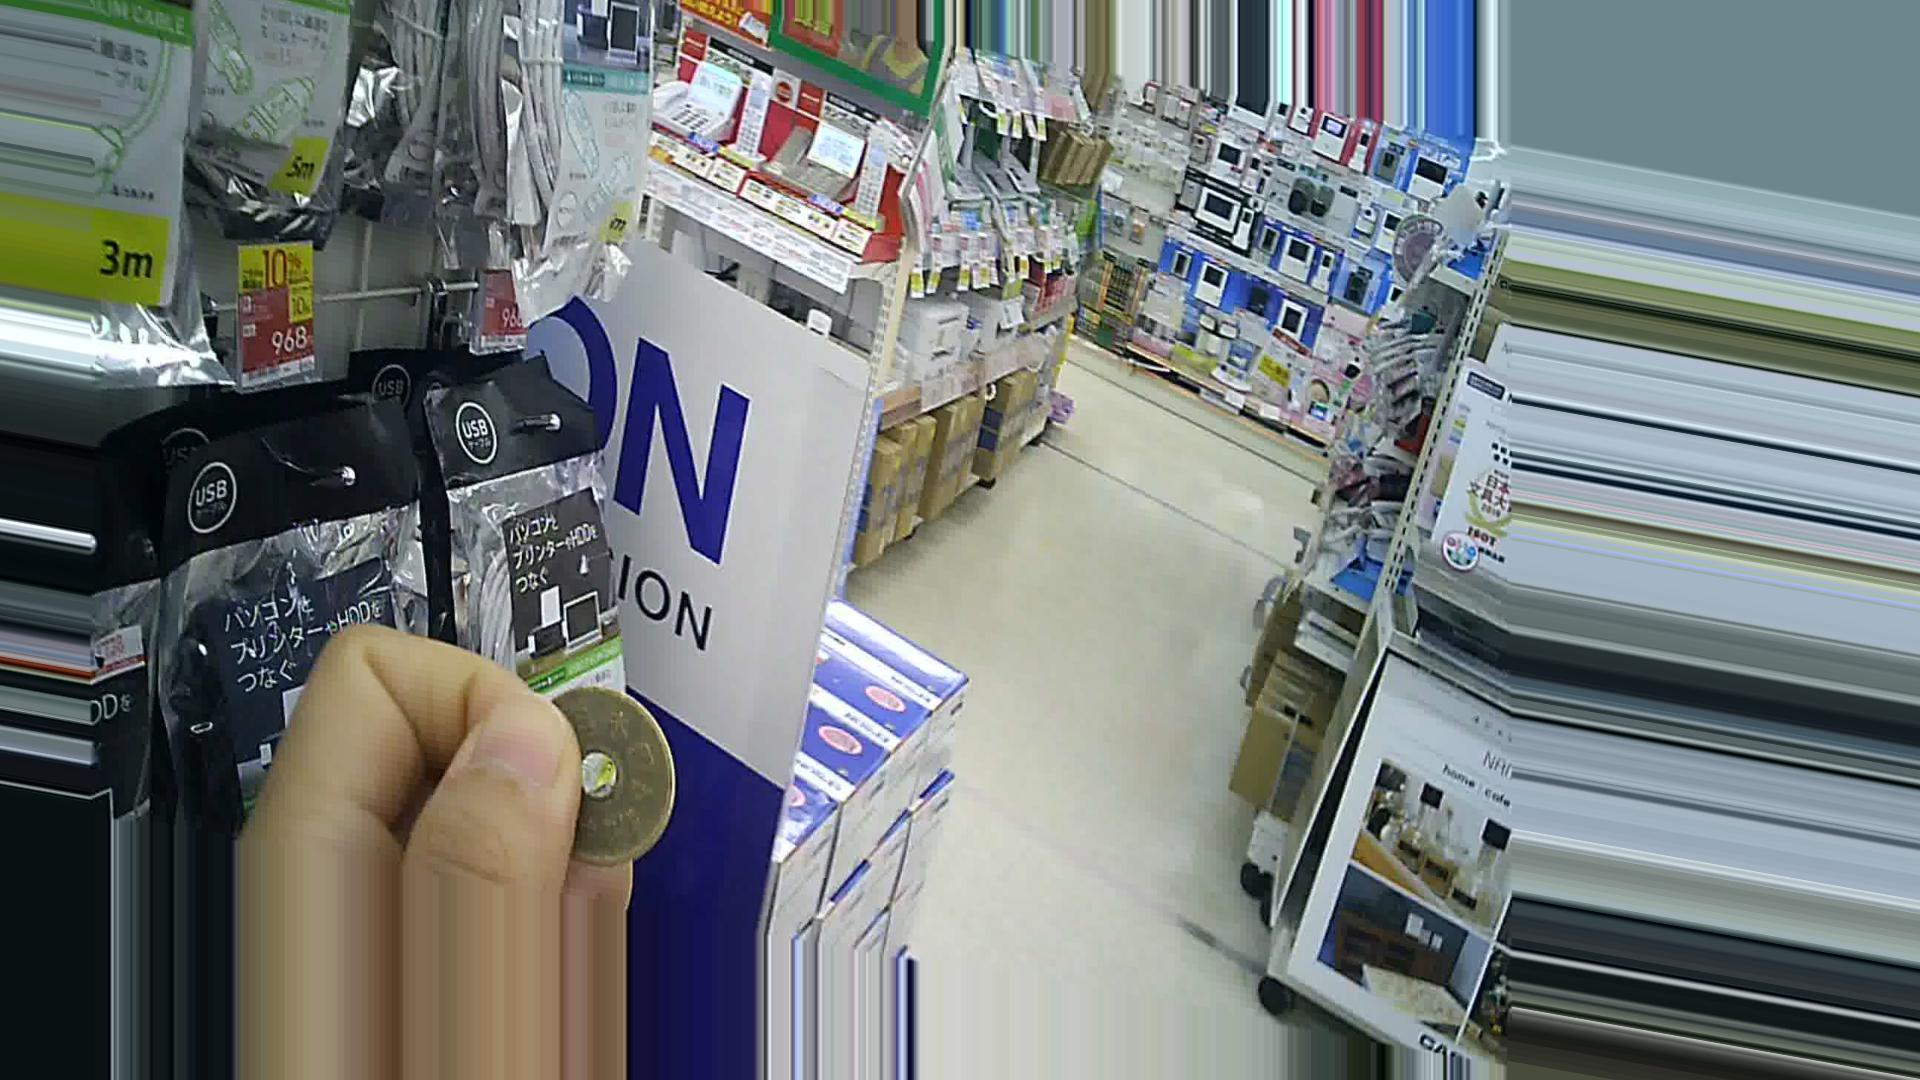5 Yen: (518, 675, 669, 884)
